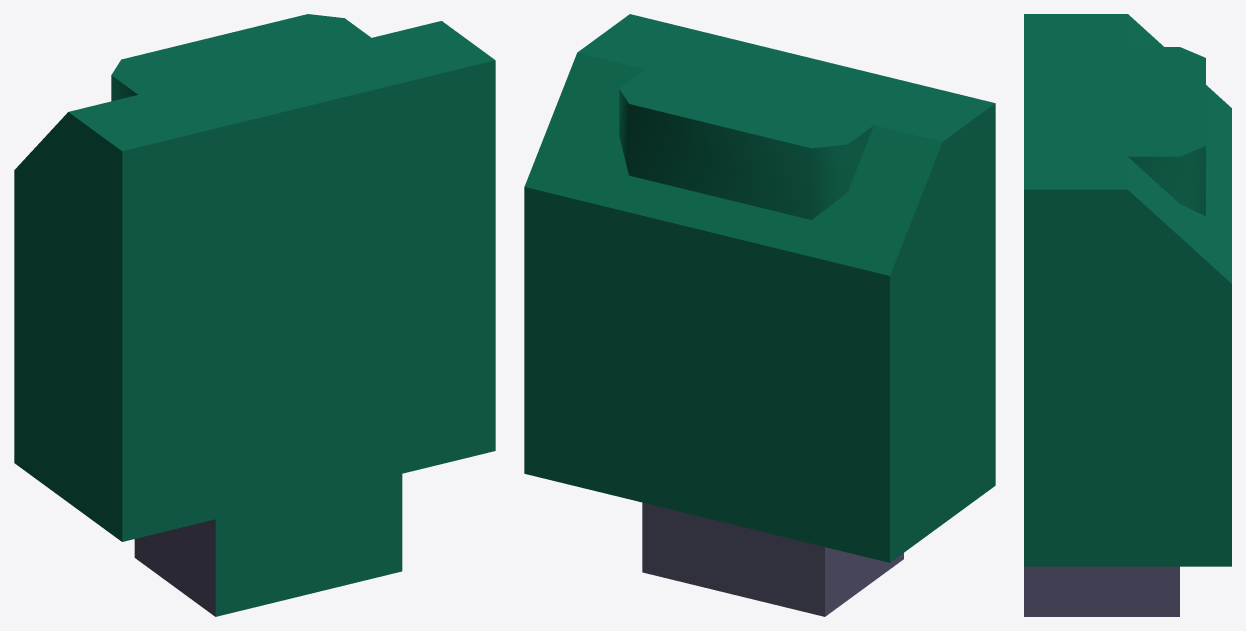
Rendered from lock.glb.
3 renders of one model, left to right at view 1: azimuth 30°, elevation 25°; view 2: azimuth 150°, elevation 25°; view 3: azimuth 270°, elevation 25°, orthographic. The views are drawn at different scales.
Visible parts, largest first — view 1: mergedBlocks(Clone); view 2: mergedBlocks(Clone); view 3: mergedBlocks(Clone).
Boxes of the visible parts, x1=… form: mergedBlocks(Clone): x1=14, y1=14, x2=495, y2=616; mergedBlocks(Clone): x1=524, y1=14, x2=995, y2=616; mergedBlocks(Clone): x1=1024, y1=14, x2=1231, y2=616.
Bounding box in the file's own units: 0.64 × 0.8 × 0.32.
